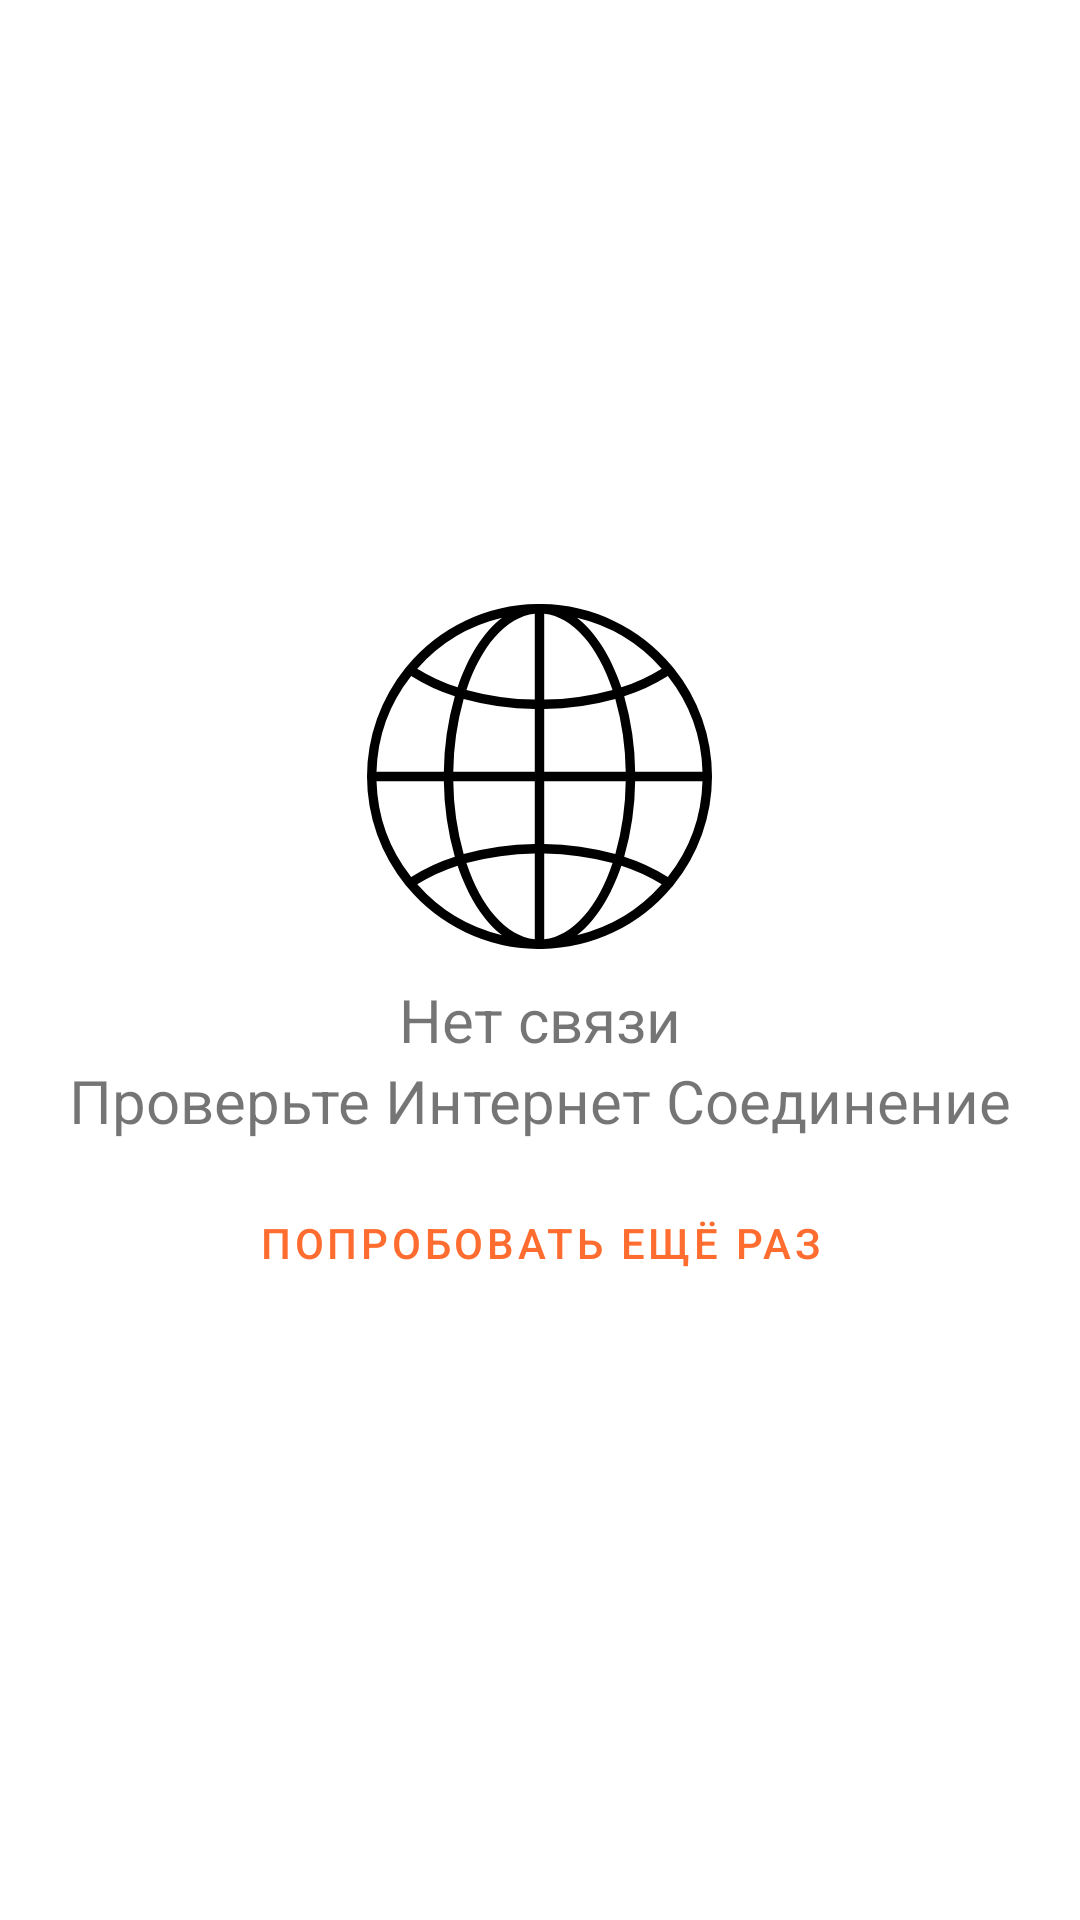

Icons on this 1080 x 1920 Android screen, each with its box as (left=x1, top=y1, right=x2, bottom=y2):
internet: (left=367, top=604, right=712, bottom=949)
